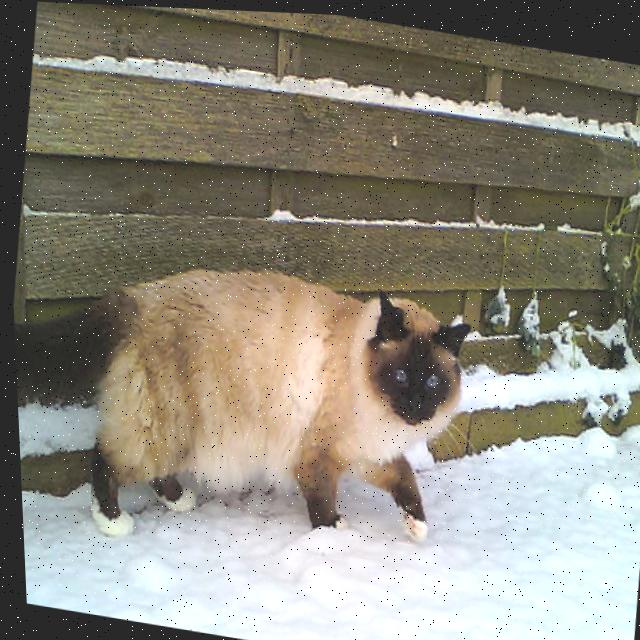Birman: (8, 228, 480, 593)
